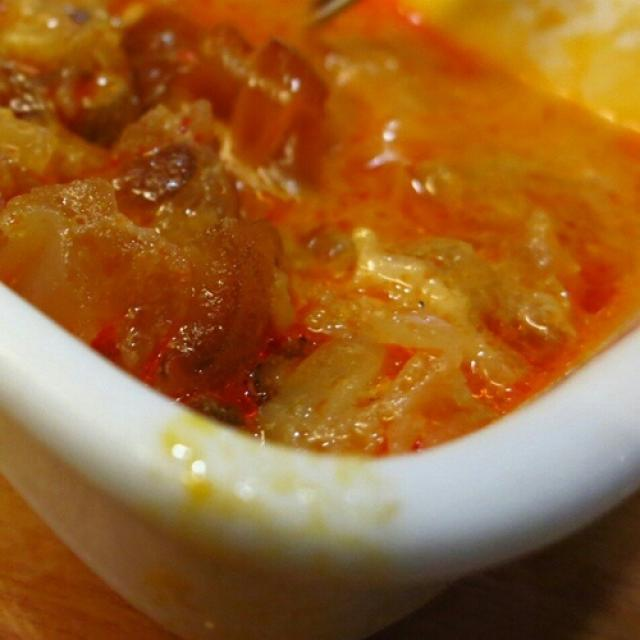熟制海鲜: (9, 8, 634, 602)
